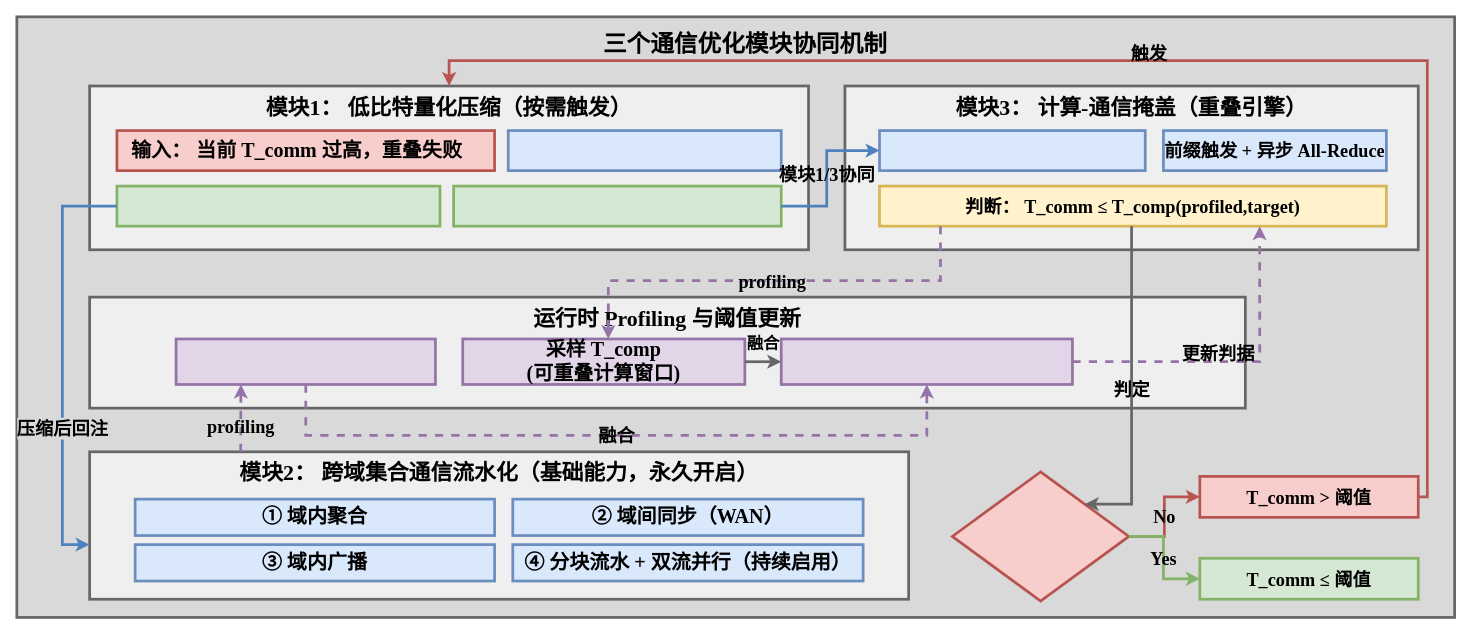
This 1471x634 diagram has some shape labels left out. The shapes that lost their labels are listed below. From the top down, each one's centre as x and y in pixels, then its label:
At (644,150): "执行： 量化 + 误差反馈".
At (1012,150): "目标：让跨域通信被计算掩盖".
At (278,205): "输出： 通信数据量下降→T_comm下降".
At (617,205): "作用：扩宽掩盖窗口，使模块3可持续生效".
At (305,361): "采样 T_comm (WAN All-Reduce 时延)".
At (926,361): "更新通信掩盖阈值".
At (1040,536): "阈值判断".
